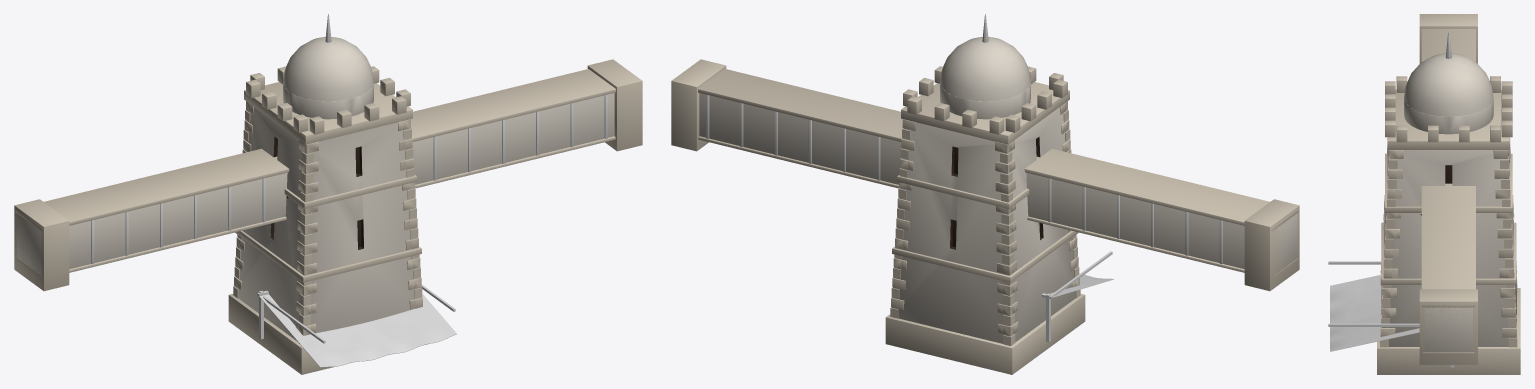
Rendered from arena.glb.
3 renders of one model, left to right at view 1: azimuth 30°, elevation 25°; view 2: azimuth 150°, elevation 25°; view 3: azimuth 270°, elevation 25°, orthographic.
Visible parts, largest first — view 1: tower_plaster, gantry_stone, gantry_plaster, tower_stone, awning_cloth, gantry_metal, awning_wood, tower_dark; view 2: tower_plaster, gantry_stone, tower_stone, gantry_plaster, gantry_metal, awning_wood, tower_dark; view 3: tower_plaster, tower_stone, gantry_stone, awning_cloth, gantry_plaster, awning_wood, tower_dark.
Part boxes in pixels (x1,y1,x2,y2): tower_plaster: (235,37,421,341); gantry_stone: (14,59,642,291); gantry_plaster: (16,93,614,275); tower_stone: (228,66,426,374); awning_cloth: (258,294,456,367); gantry_metal: (91,94,607,264); awning_wood: (257,284,455,343); tower_dark: (270,137,363,249); tower_plaster: (891,37,1077,343); gantry_stone: (671,59,1299,291); tower_stone: (885,66,1085,374); gantry_plaster: (699,93,1297,273); gantry_metal: (706,94,1222,264); awning_wood: (1041,251,1112,342); tower_dark: (950,137,1043,249); tower_plaster: (1381,53,1516,346); tower_stone: (1377,76,1520,374); gantry_stone: (1419,14,1477,364); awning_cloth: (1330,275,1419,351); gantry_plaster: (1424,308,1472,351); awning_wood: (1328,261,1454,367); tower_dark: (1384,153,1512,236).
Bounding box in the file's own units: 70 × 35.6 × 19.8.
